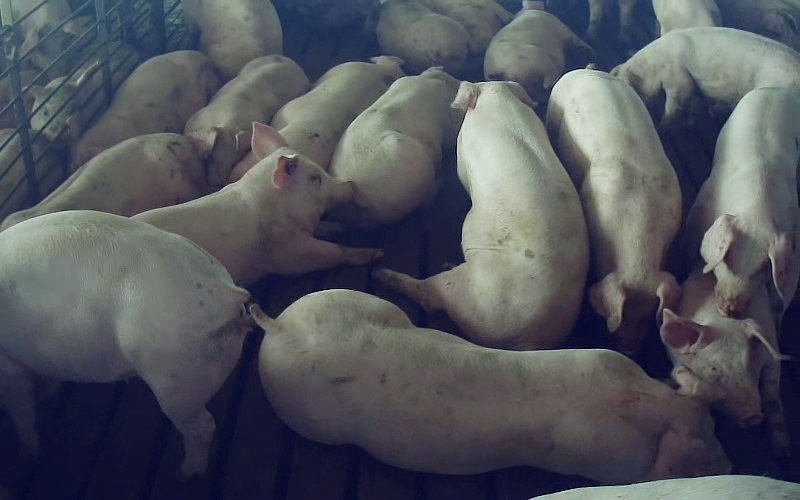pig: (251, 290, 729, 482), (377, 82, 587, 349), (134, 123, 381, 286), (547, 68, 680, 353), (682, 87, 799, 320), (660, 272, 787, 452), (329, 67, 462, 226), (0, 133, 207, 229), (612, 27, 799, 123), (69, 50, 219, 169), (184, 55, 308, 189), (484, 0, 592, 102), (183, 0, 282, 79), (377, 0, 471, 75)
